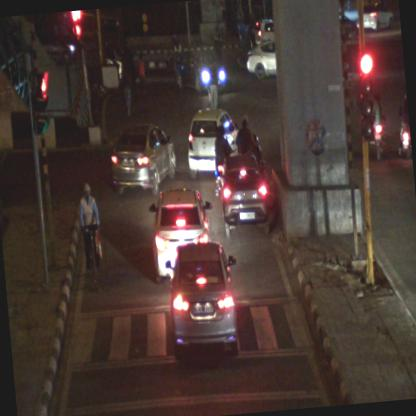car: (162, 242, 242, 356), (147, 188, 215, 282), (110, 122, 178, 199), (218, 154, 270, 238), (183, 106, 242, 179), (174, 48, 226, 96), (241, 40, 277, 78), (361, 1, 396, 36)
motorcycle: (366, 92, 390, 159), (394, 92, 412, 160)
